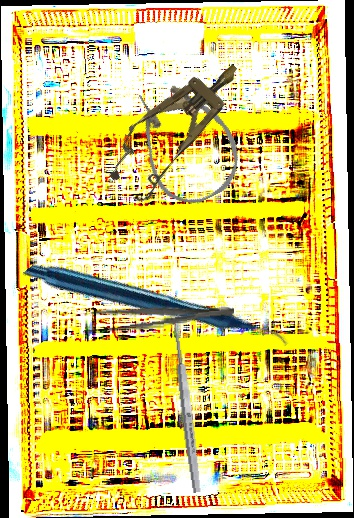Cannula: (118, 66, 253, 216)
Dressing Forceps: (81, 298, 235, 337)
Handpiece: (21, 169, 291, 447)
Speculum: (95, 43, 260, 209)
Surgical Spoon: (169, 311, 203, 494)
